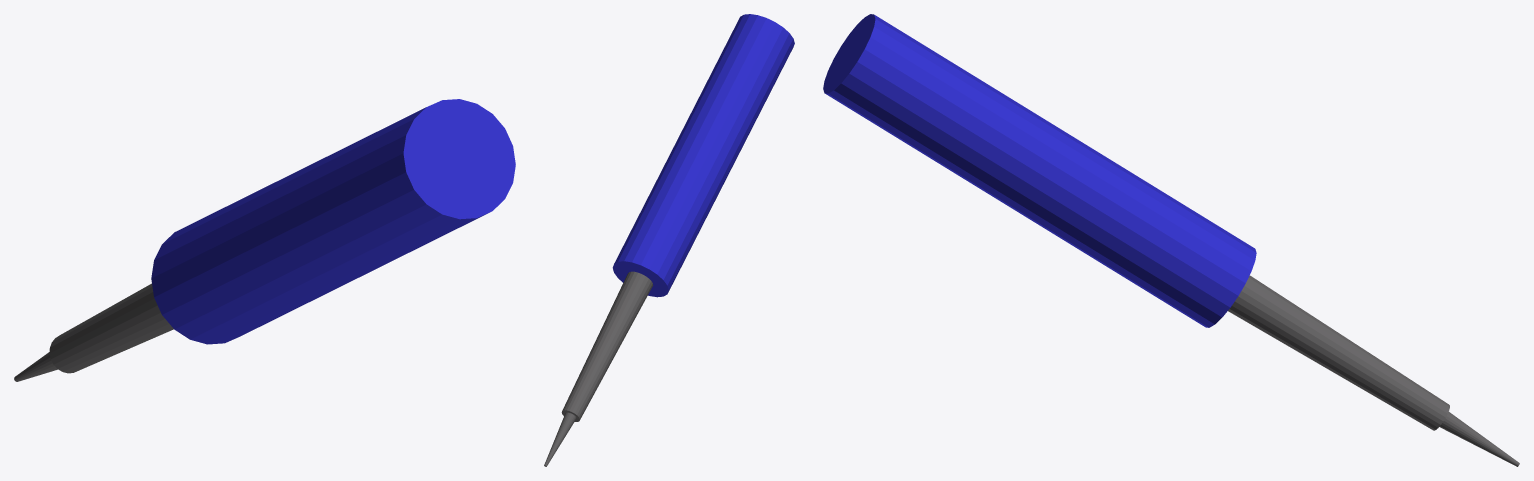
Rendered from 3D_soldering iron.fbx.
3 views of the same model, side by side, from view 1: azimuth 30°, elevation 25°; view 2: azimuth 150°, elevation 25°; view 3: azimuth 270°, elevation 25° (orthographic). The views are drawn at different scales.
Parts seen in each view (by area): view 1: to_unity_soldering_iron; view 2: to_unity_soldering_iron; view 3: to_unity_soldering_iron.
Boxes of the visible parts, box(x1,y1,x2,y2) form: to_unity_soldering_iron: box(14, 99, 515, 381); to_unity_soldering_iron: box(544, 14, 794, 466); to_unity_soldering_iron: box(823, 14, 1519, 466).
Bounding box in the file's own units: 4.76 × 25.22 × 35.56.
